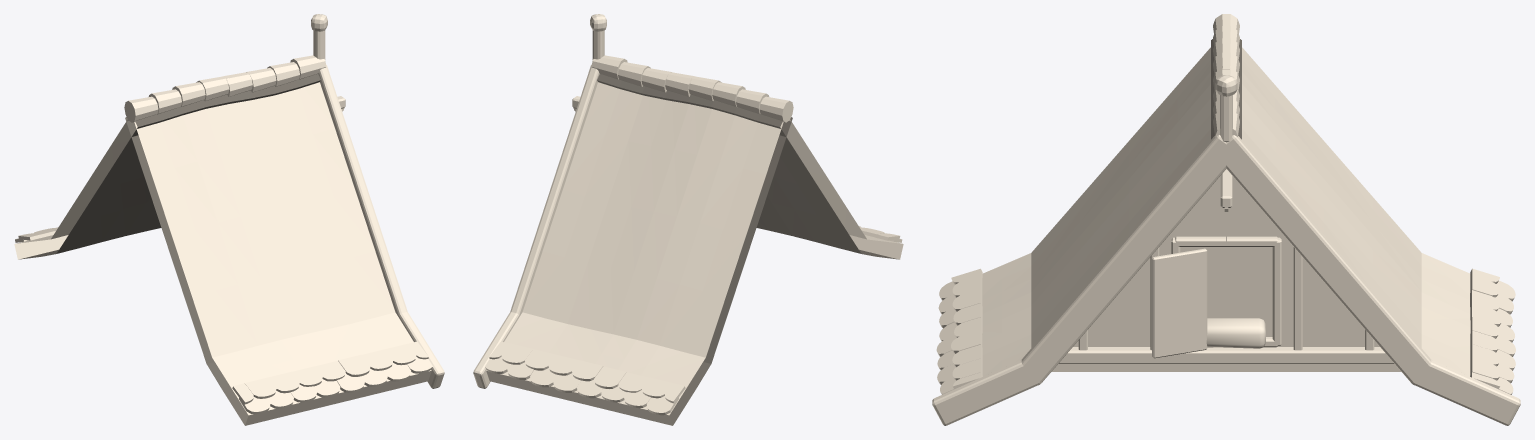
The model's file is SM_VK_Roof_Gable_Planks.fbx.
3 views of the same model, side by side, from view 1: azimuth 30°, elevation 25°; view 2: azimuth 150°, elevation 25°; view 3: azimuth 270°, elevation 25° (orthographic). The views are drawn at different scales.
Parts seen in each view (by area): view 1: SM_VK_Roof_Gable_Planks.001; view 2: SM_VK_Roof_Gable_Planks.001; view 3: SM_VK_Roof_Gable_Planks.001.
Boxes of the visible parts, bbox=[...] form: SM_VK_Roof_Gable_Planks.001: bbox=[14, 14, 444, 425]; SM_VK_Roof_Gable_Planks.001: bbox=[473, 14, 903, 425]; SM_VK_Roof_Gable_Planks.001: bbox=[932, 14, 1520, 425].
Size of the model in its own units: 4.59 by 5.89 by 9.04.
